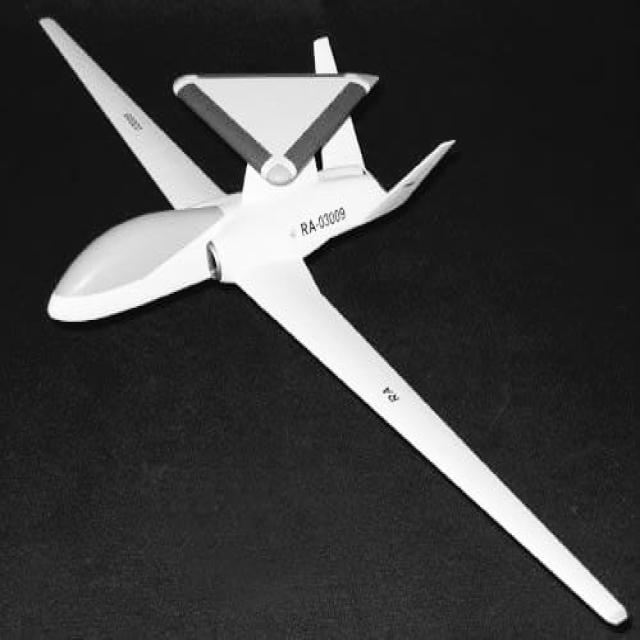iha: (3, 2, 627, 624)
